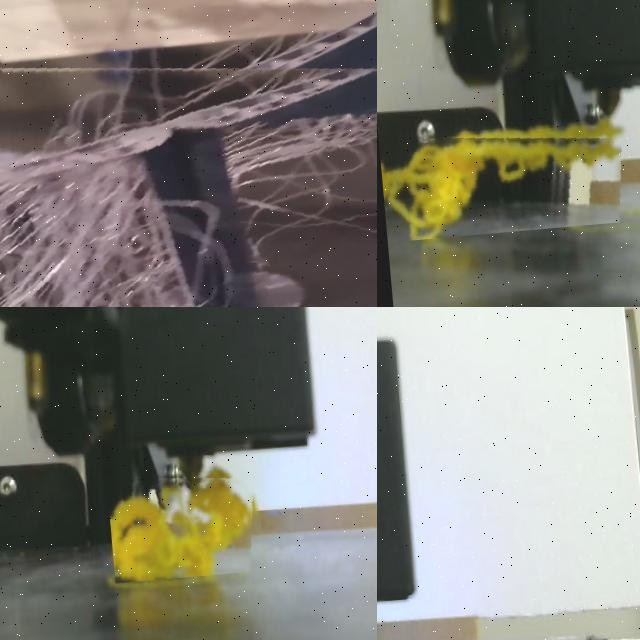spaghetti: (0, 13, 377, 307), (380, 134, 622, 240), (110, 476, 253, 581)
